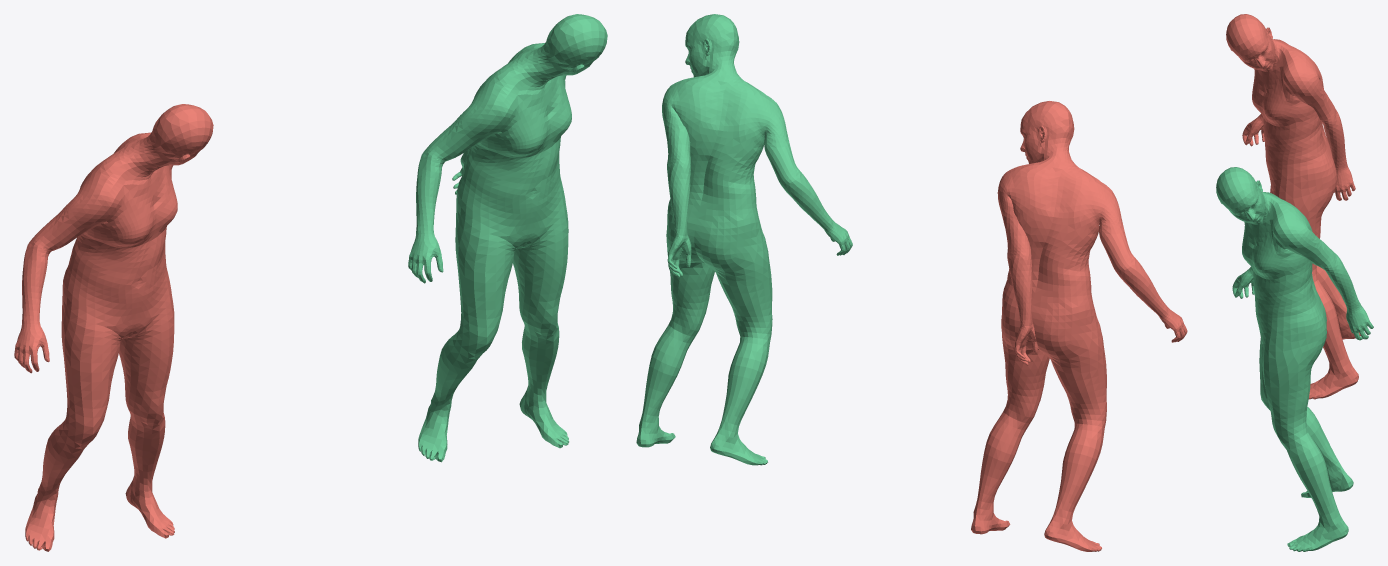
The model's file is pose_492_before_after.glb.
3 views of the same model, side by side, from view 1: azimuth 30°, elevation 25°; view 2: azimuth 150°, elevation 25°; view 3: azimuth 270°, elevation 25° (orthographic). The views are drawn at different scales.
Parts seen in each view (by area): view 1: poseshield_green, input_red; view 2: poseshield_green, input_red; view 3: poseshield_green, input_red.
Part boxes in pixels (left/top/right/bottom): poseshield_green: left=408, top=14, right=607, bottom=462; input_red: left=14, top=104, right=213, bottom=551; poseshield_green: left=636, top=14, right=852, bottom=465; input_red: left=971, top=101, right=1187, bottom=551; poseshield_green: left=1216, top=167, right=1373, bottom=551; input_red: left=1226, top=14, right=1360, bottom=399.
Size of what is drawn, in the model's own units: 2.15 by 1.63 by 0.6286.
